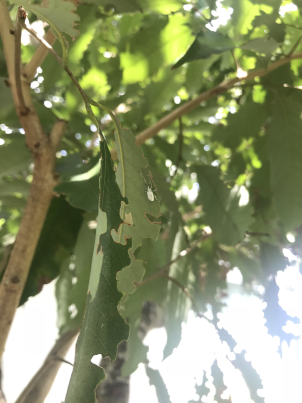weevil: (137, 179, 164, 205)
